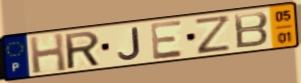B: (232, 10, 270, 50)
E: (148, 18, 185, 62)
H: (28, 31, 69, 76)
J: (116, 25, 143, 62)
R: (63, 29, 103, 71)
Z: (193, 13, 233, 56)
